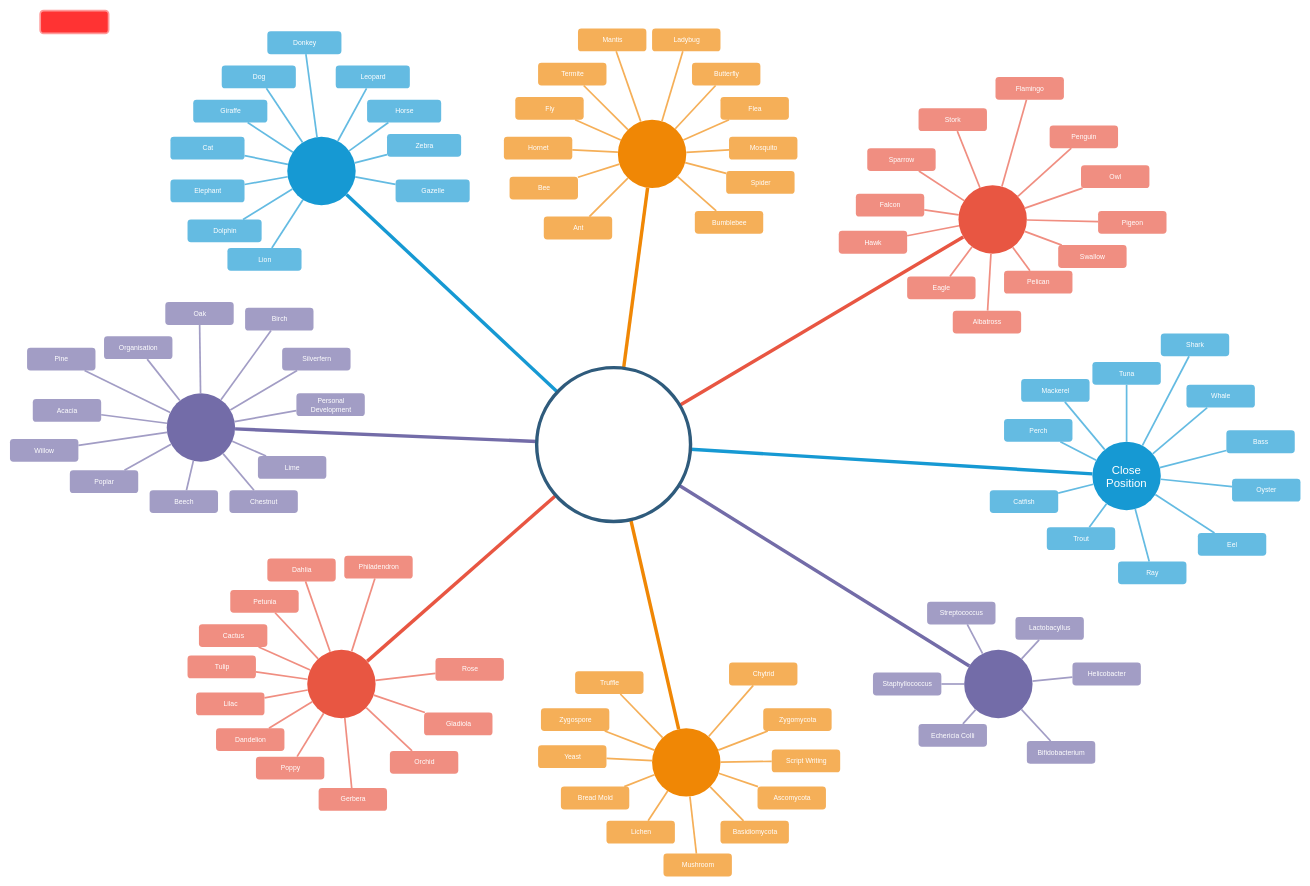
This 1310x886 diagram has some shape labels left out. Here are the shapes that lost their labels. From the top down, the centre of each, then its label:
point 74,21: Price
point 321,171: Place Order
point 652,153: Delete Order
point 992,219: View Position
point 200,427: Auto-Trade
point 613,444: Mind Map Bybitapp Features
point 341,684: Exchange Desk
point 998,684: Deposit History
point 686,762: Total Balance
